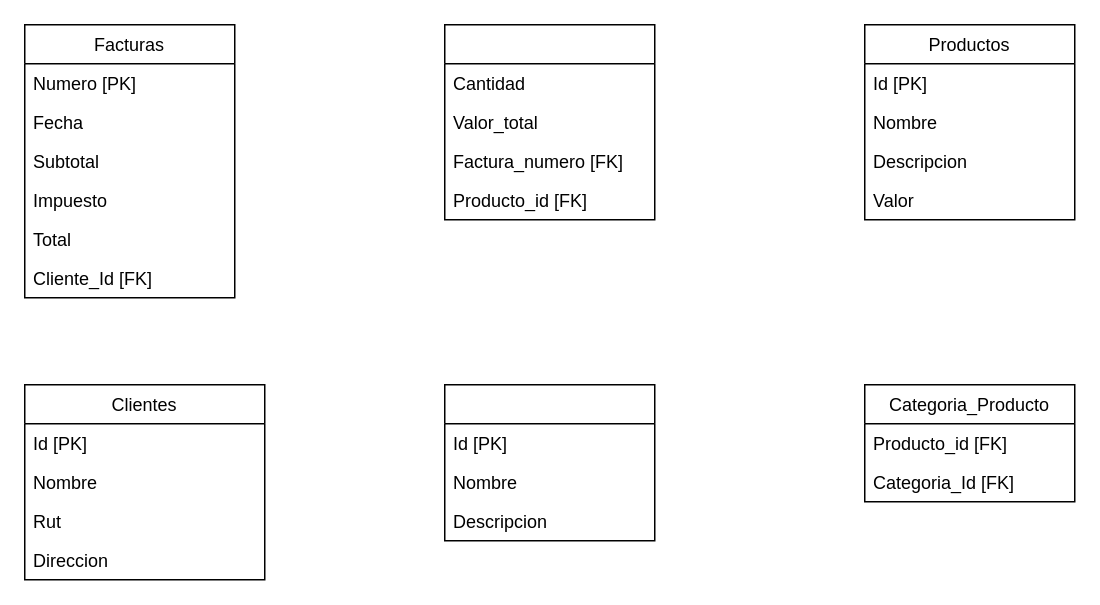
Some shapes in this 1100 by 605 pixel diagram are drawn without their labels. The box of each missing label's shape, as (x1, y1, x2, y2) in pixels:
Categoria: (443, 383, 655, 541)
Factura_Producto: (443, 23, 655, 220)
